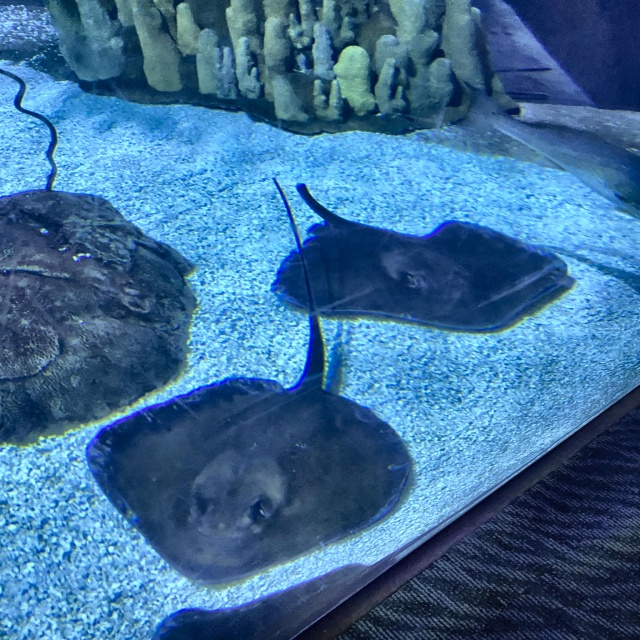fish: (452, 82, 639, 217)
stingray: (86, 377, 412, 584), (273, 222, 570, 334)
